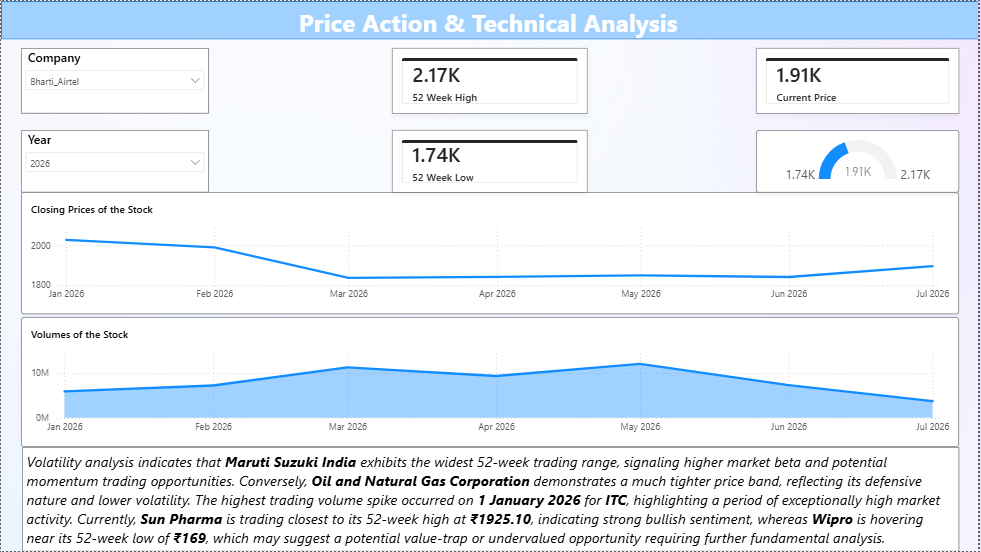

The dashboard page shown, as its layout file describes it:
{"tool":"powerbi","page":{"name":"Page 2","canvas":[1280,720],"ordinal":1},"visuals":[{"type":"slicer","fields":{"Values":["Dim_Company.Company"]},"box":[25.9,61.9,246.2,86.4],"z":0},{"type":"slicer","fields":{"Values":["Date Table.Date.Variation.Date Hierarchy.Year","Date Table.Date.Variation.Date Hierarchy.Month"]},"box":[25.9,168.5,246.2,82.1],"z":1000},{"type":"lineChart","title":"Closing  Prices of the Stock","fields":{"Category":["Date Table.Date.Variation.Date Hierarchy.Year","Date Table.Date.Variation.Date Hierarchy.Quarter","Date Table.Date.Variation.Date Hierarchy.Month"],"Y":["Stocks csv.Closing Price Company"]},"box":[25.9,250.6,1228.3,159.8],"z":2000},{"type":"areaChart","title":"Volumes of the Stock","fields":{"Category":["Date Table.Date.Variation.Date Hierarchy.Year","Date Table.Date.Variation.Date Hierarchy.Month"],"Y":["Stocks csv.Total volume"]},"box":[25.9,413.3,1228.3,169.9],"z":3000},{"type":"cardVisual","fields":{"Data":["Sum(Market_Cap.52 Week High)"]},"box":[511.2,61.9,256.3,86.4],"z":4000},{"type":"cardVisual","fields":{"Data":["Avg(Market_Cap.52 Week Low)"]},"box":[511.2,168.5,256.3,82.1],"z":5000},{"type":"cardVisual","fields":{"Data":["Avg(Market_Cap.Current Price)"]},"box":[987.8,61.9,266.4,86.4],"z":6000},{"type":"gauge","fields":{"Y":["Max(Market_Cap.Current Price)"],"MinValue":["Max(Market_Cap.52 Week Low)"],"MaxValue":["Max(Market_Cap.52 Week High)"]},"box":[987.8,168.5,266.4,82.1],"z":7000},{"type":"shape","box":[0,0,1280.2,50.4],"z":8000},{"type":"textbox","box":[27.4,583.2,1226.9,136.8],"z":9000},{"type":"textbox","box":[385.3,0,510.9,54.2],"z":10000}]}

Visuals, with their boxes in screenshot pixels (x1, y1, x2, y2), scaled from the page's 1280x720 canvas onto the 981x552 screenshot:
slicer - Dim_Company.Company: (x1=20, y1=47, x2=209, y2=114)
slicer - Date Table.Date.Variation.Date Hierarchy.Year x Date Table.Date.Variation.Date Hierarchy.Month: (x1=20, y1=129, x2=209, y2=192)
"Closing  Prices of the Stock" lineChart: (x1=20, y1=192, x2=961, y2=315)
"Volumes of the Stock" areaChart: (x1=20, y1=317, x2=961, y2=447)
cardVisual - Sum(Market_Cap.52 Week High): (x1=392, y1=47, x2=588, y2=114)
cardVisual - Avg(Market_Cap.52 Week Low): (x1=392, y1=129, x2=588, y2=192)
cardVisual - Avg(Market_Cap.Current Price): (x1=757, y1=47, x2=961, y2=114)
gauge - Max(Market_Cap.Current Price) x Max(Market_Cap.52 Week Low): (x1=757, y1=129, x2=961, y2=192)
shape: (x1=0, y1=0, x2=980, y2=39)
textbox: (x1=21, y1=447, x2=961, y2=551)
textbox: (x1=295, y1=0, x2=687, y2=42)
